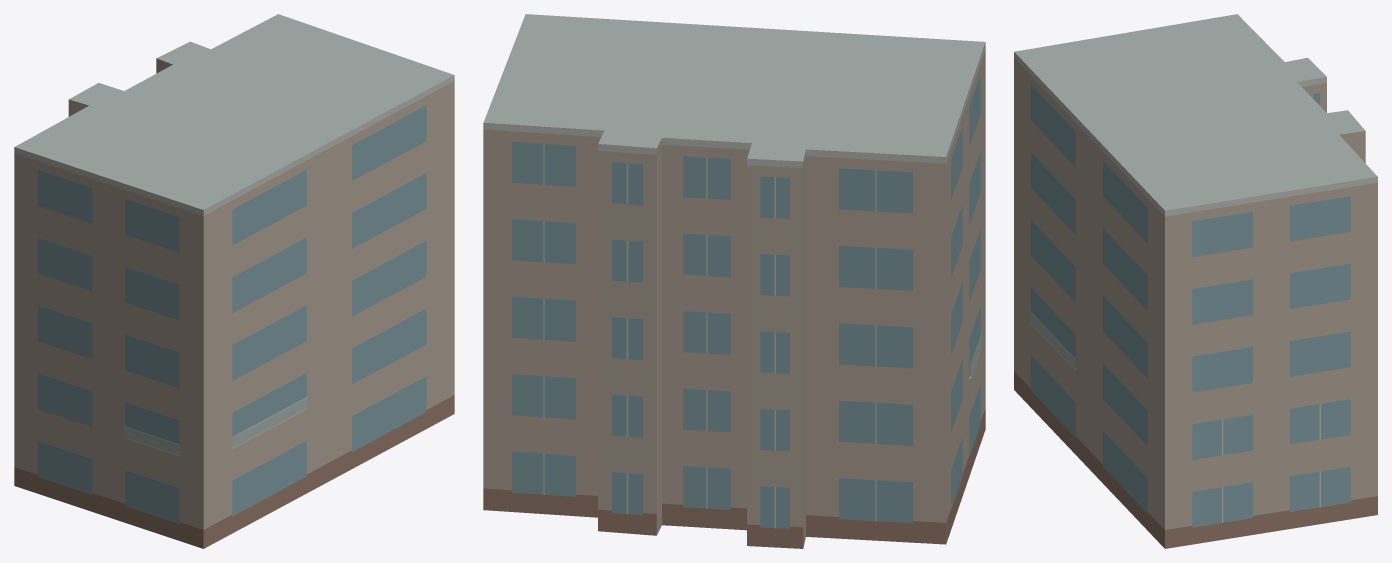
File: survey-upis-32849681.glb
The picture shows the model from 3 angles, left to right: view 1: azimuth 30°, elevation 25°; view 2: azimuth 150°, elevation 25°; view 3: azimuth 270°, elevation 25°; orthographic projection. The views are drawn at different scales.
Parts seen in each view (by area): view 1: survey-upis-32849681.tmp; view 2: survey-upis-32849681.tmp; view 3: survey-upis-32849681.tmp.
Boxes of the visible parts, x1=… form: survey-upis-32849681.tmp: x1=14, y1=14, x2=454, y2=548; survey-upis-32849681.tmp: x1=483, y1=14, x2=985, y2=548; survey-upis-32849681.tmp: x1=1014, y1=14, x2=1377, y2=548.
Bounding box in the file's own units: 17.61 × 14.1 × 13.76.
